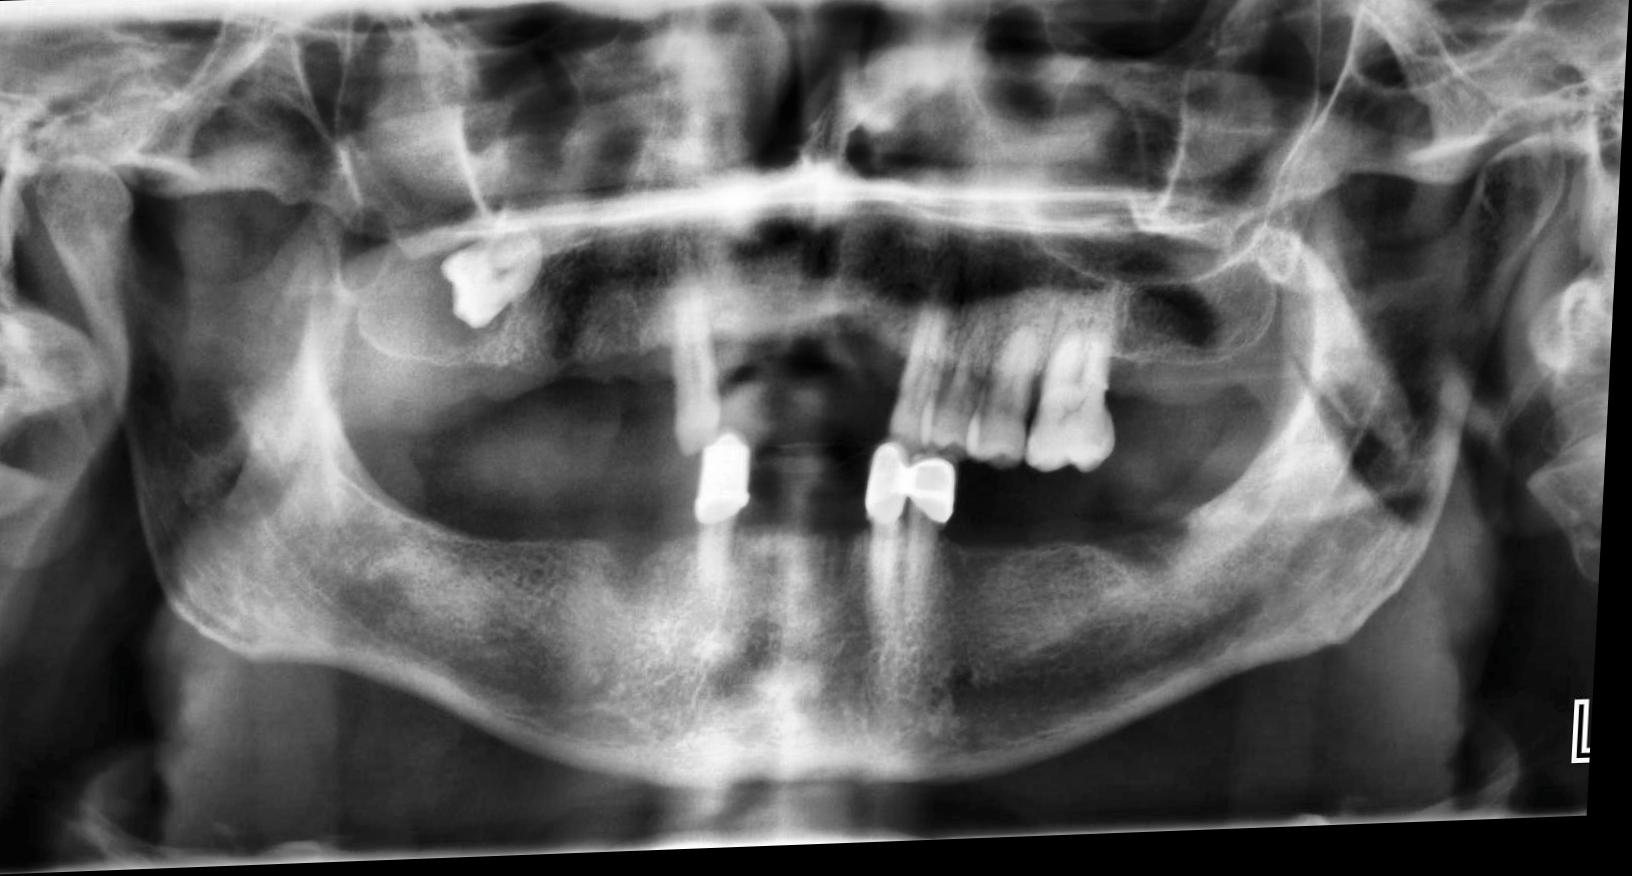dentigeroz: (358, 232, 519, 368)
